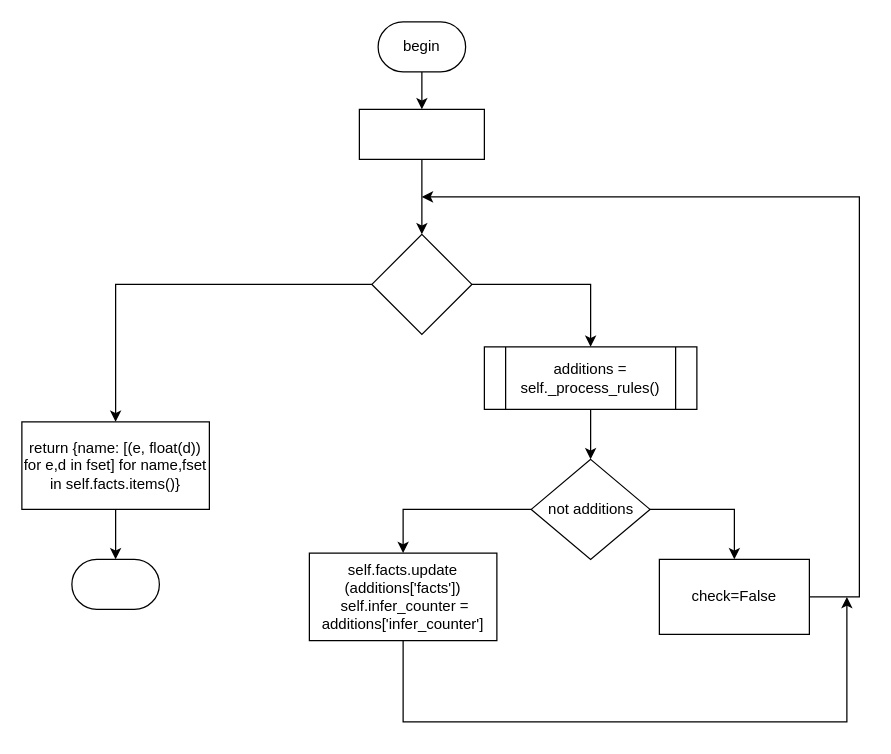
Image size: 891x754. Some labels were removed from this diagram. Each missing label, with the centre of its shape:
check: [421,283]
check=True: [421,133]
end: [115,583]
